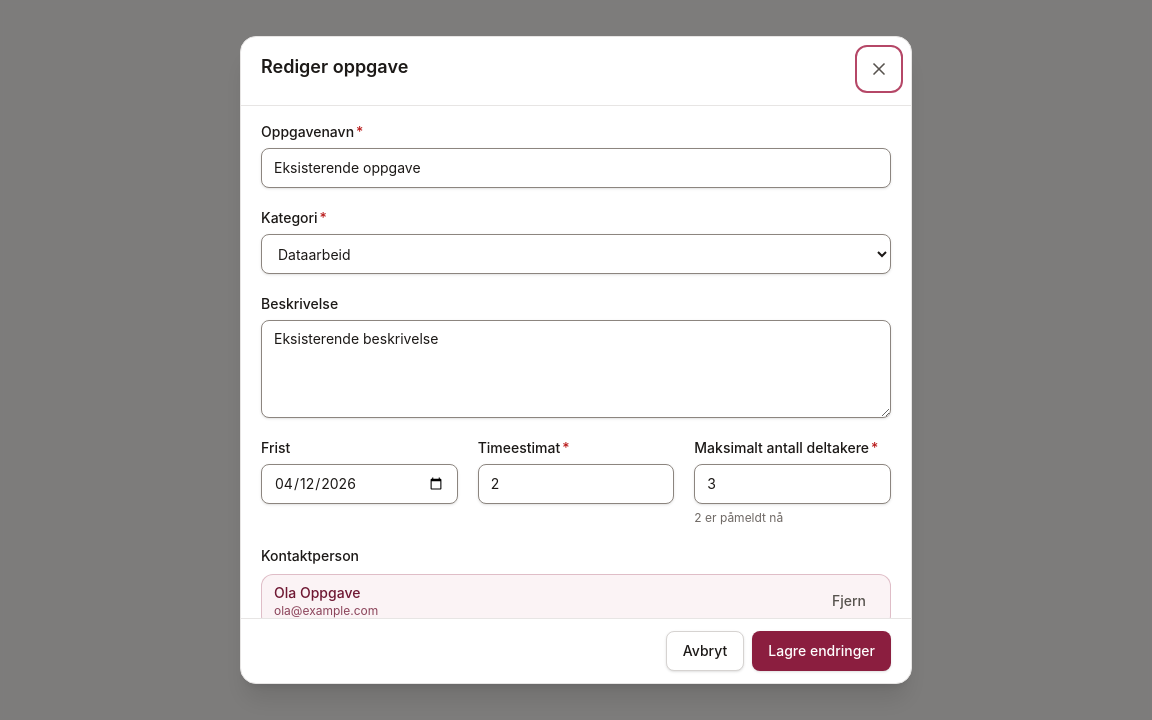
Test: TaskCreationModal › does not allow fewer places than people already signed up when editing
Replace the text in the number field labelled "Maksimalt antall deltakere*" with "1". click: (793, 484)
box: [694, 464, 891, 504]
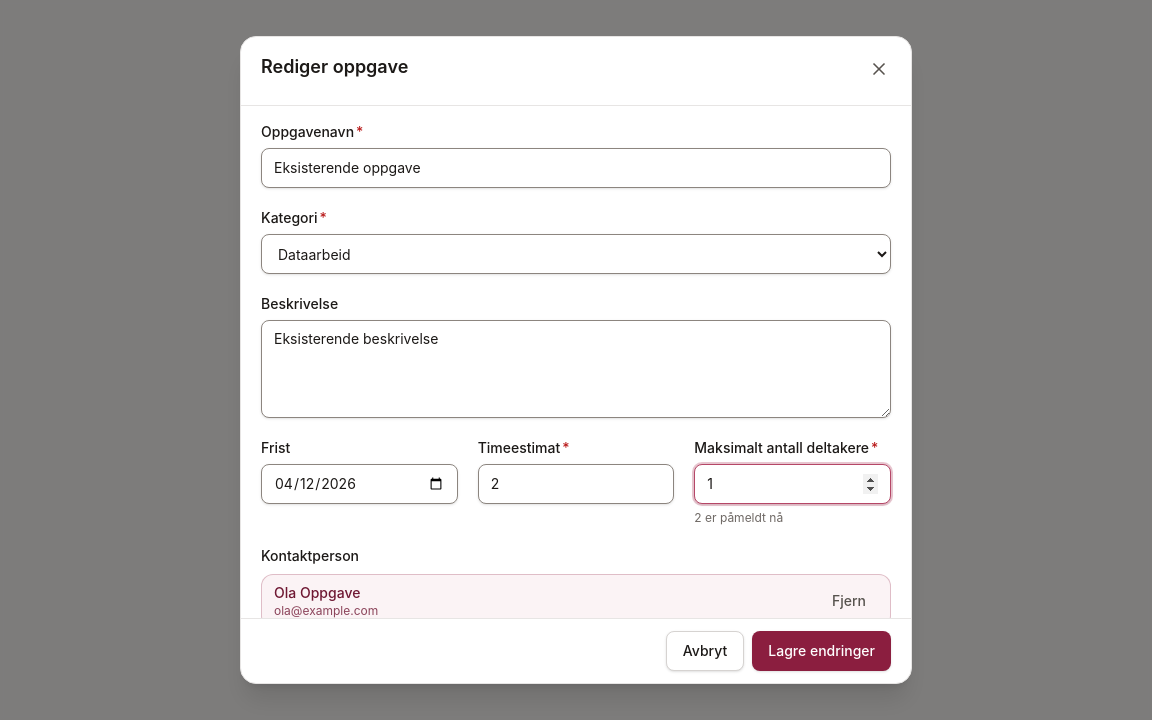
Click the button "Lagre endringer". click: (822, 651)
box: [752, 631, 891, 671]
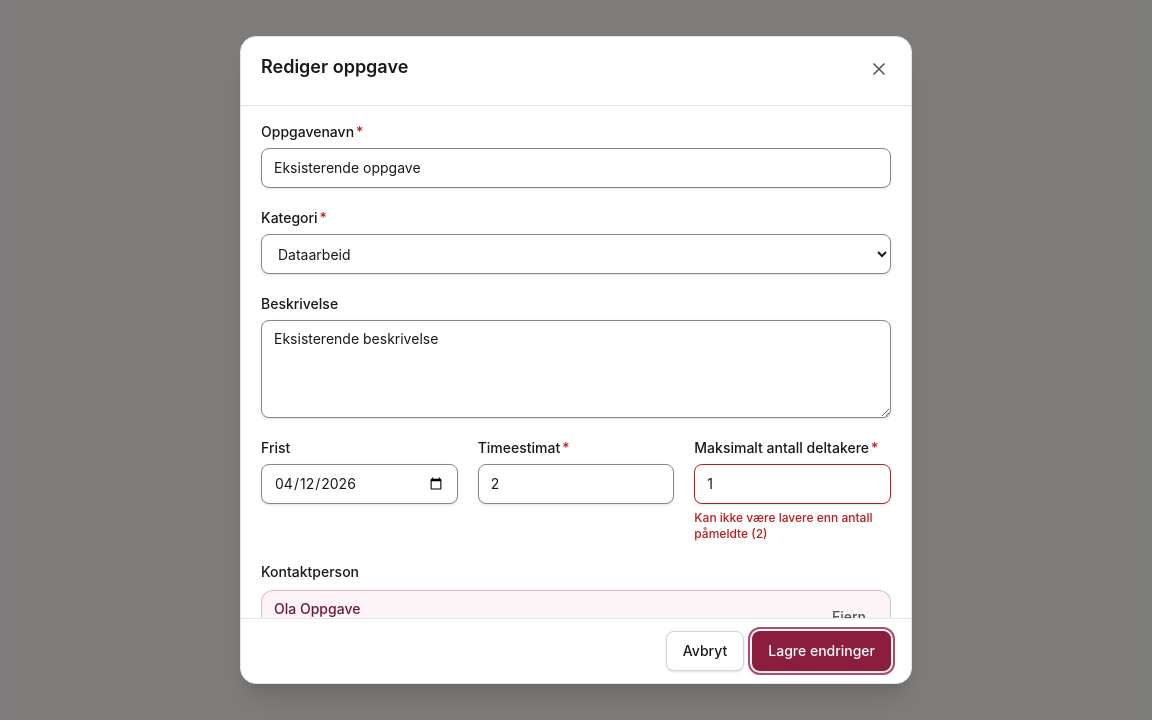
Now the text "Kan ikke være lavere enn antall påmeldte (2)" is shown, box [694, 510, 891, 542]
